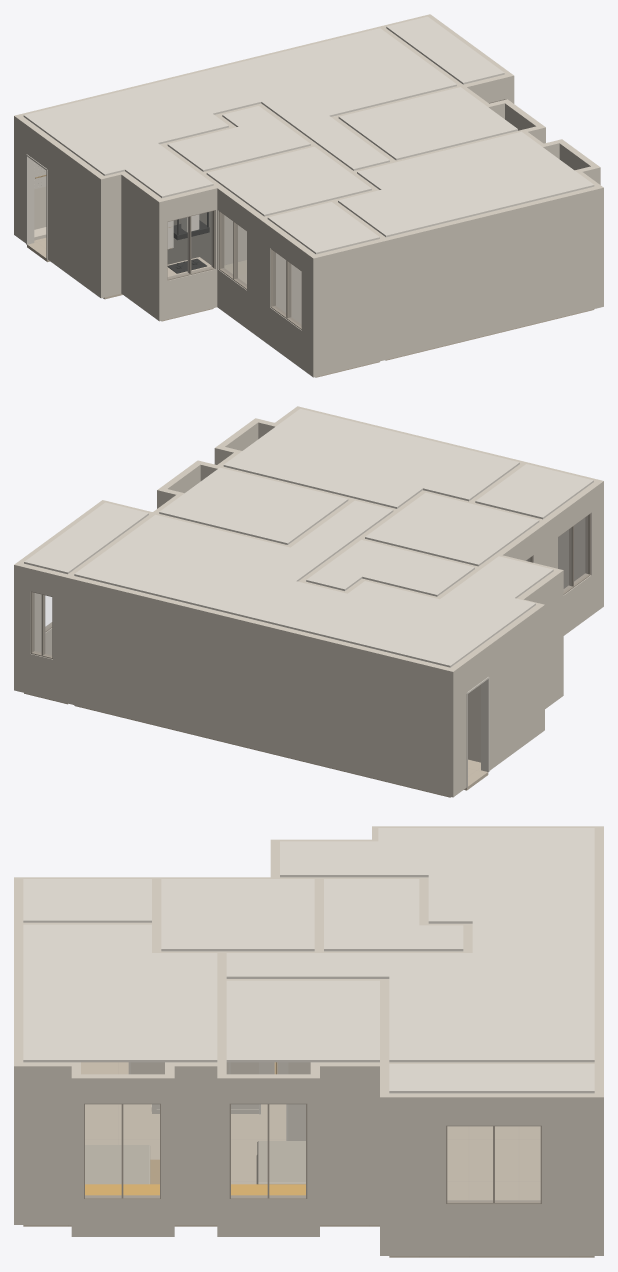
Rendered from house.glb.
The picture shows the model from 3 angles, top to bottom: view 1: azimuth 30°, elevation 25°; view 2: azimuth 150°, elevation 25°; view 3: azimuth 270°, elevation 25°; orthographic projection. The views are drawn at different scales.
Parts seen in each view (by area): view 1: WALL_EXT_014, CEILING_ROOM_003, CEILING_ROOM_008, WALL_EXT_020, CEILING_ROOM_007, CEILING_ROOM_006, CEILING_ROOM_002, WALL_EXT_017, CEILING_ROOM_005, WALL_EXT_015, WALL_EXT_018, WALL_EXT_016 (+17 smaller); view 2: WALL_EXT_001, CEILING_ROOM_003, CEILING_ROOM_008, WALL_EXT_020, CEILING_ROOM_007, CEILING_ROOM_006, CEILING_ROOM_002, WALL_EXT_002, CEILING_ROOM_005, WALL_EXT_015, CEILING_ROOM_004, CEILING_ROOM_009 (+14 smaller); view 3: CEILING_ROOM_003, WALL_EXT_003, CEILING_ROOM_008, CEILING_ROOM_007, CEILING_ROOM_006, CEILING_ROOM_002, WALL_EXT_005, CEILING_ROOM_005, WALL_EXT_013, WALL_EXT_009, ROOM_003, WINDOW_002_glazing (+31 smaller).
Part boxes in pixels (x1=…): WALL_EXT_014: x1=310, y1=185, x2=603, y2=377; CEILING_ROOM_003: x1=96, y1=28, x2=456, y2=146; CEILING_ROOM_008: x1=338, y1=131, x2=594, y2=237; WALL_EXT_020: x1=17, y1=117, x2=103, y2=295; CEILING_ROOM_007: x1=338, y1=87, x2=517, y2=160; CEILING_ROOM_006: x1=206, y1=146, x2=371, y2=216; CEILING_ROOM_002: x1=54, y1=120, x2=213, y2=197; WALL_EXT_017: x1=156, y1=185, x2=217, y2=321; CEILING_ROOM_005: x1=167, y1=106, x2=310, y2=171; WALL_EXT_015: x1=260, y1=218, x2=315, y2=374; WALL_EXT_018: x1=121, y1=173, x2=161, y2=318; WALL_EXT_016: x1=216, y1=185, x2=265, y2=337; WALL_EXT_001: x1=67, y1=575, x2=456, y2=797; CEILING_ROOM_003: x1=74, y1=514, x2=439, y2=648; CEILING_ROOM_008: x1=223, y1=408, x2=519, y2=508; WALL_EXT_020: x1=451, y1=606, x2=541, y2=794; CEILING_ROOM_007: x1=159, y1=467, x2=348, y2=544; CEILING_ROOM_006: x1=365, y1=492, x2=539, y2=566; CEILING_ROOM_002: x1=407, y1=556, x2=553, y2=643; WALL_EXT_002: x1=14, y1=562, x2=70, y2=703; CEILING_ROOM_005: x1=306, y1=539, x2=474, y2=596; WALL_EXT_015: x1=541, y1=482, x2=600, y2=635; CEILING_ROOM_004: x1=24, y1=502, x2=148, y2=574; CEILING_ROOM_009: x1=475, y1=464, x2=593, y2=519; CEILING_ROOM_003: x1=314, y1=875, x2=594, y2=1062; WALL_EXT_003: x1=389, y1=1093, x2=594, y2=1255; CEILING_ROOM_008: x1=23, y1=924, x2=217, y2=1062; CEILING_ROOM_007: x1=226, y1=980, x2=379, y2=1062; CEILING_ROOM_006: x1=161, y1=879, x2=314, y2=951; CEILING_ROOM_002: x1=280, y1=828, x2=511, y2=877; WALL_EXT_005: x1=320, y1=1062, x2=379, y2=1224; CEILING_ROOM_005: x1=324, y1=879, x2=463, y2=951; WALL_EXT_013: x1=23, y1=1062, x2=71, y2=1224; WALL_EXT_009: x1=174, y1=1062, x2=217, y2=1224; ROOM_003: x1=447, y1=1126, x2=540, y2=1200; WINDOW_002_glazing: x1=448, y1=1127, x2=539, y2=1201.
Size of the model in its own units: 10.26 by 2.94 by 9.43.
Materials: 22 (3 with a texture image).
